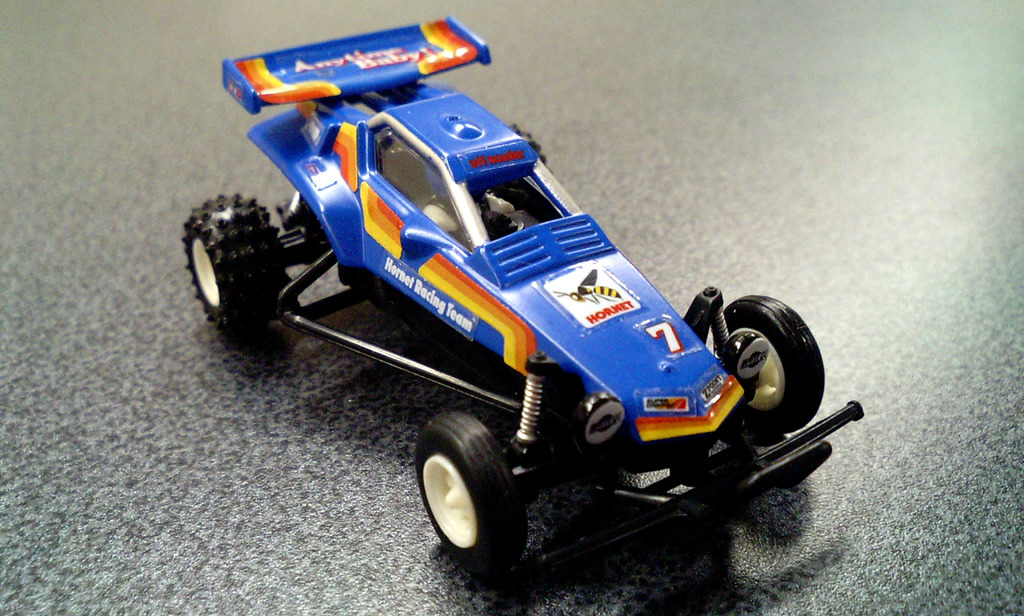mobil: (134, 30, 864, 555)
